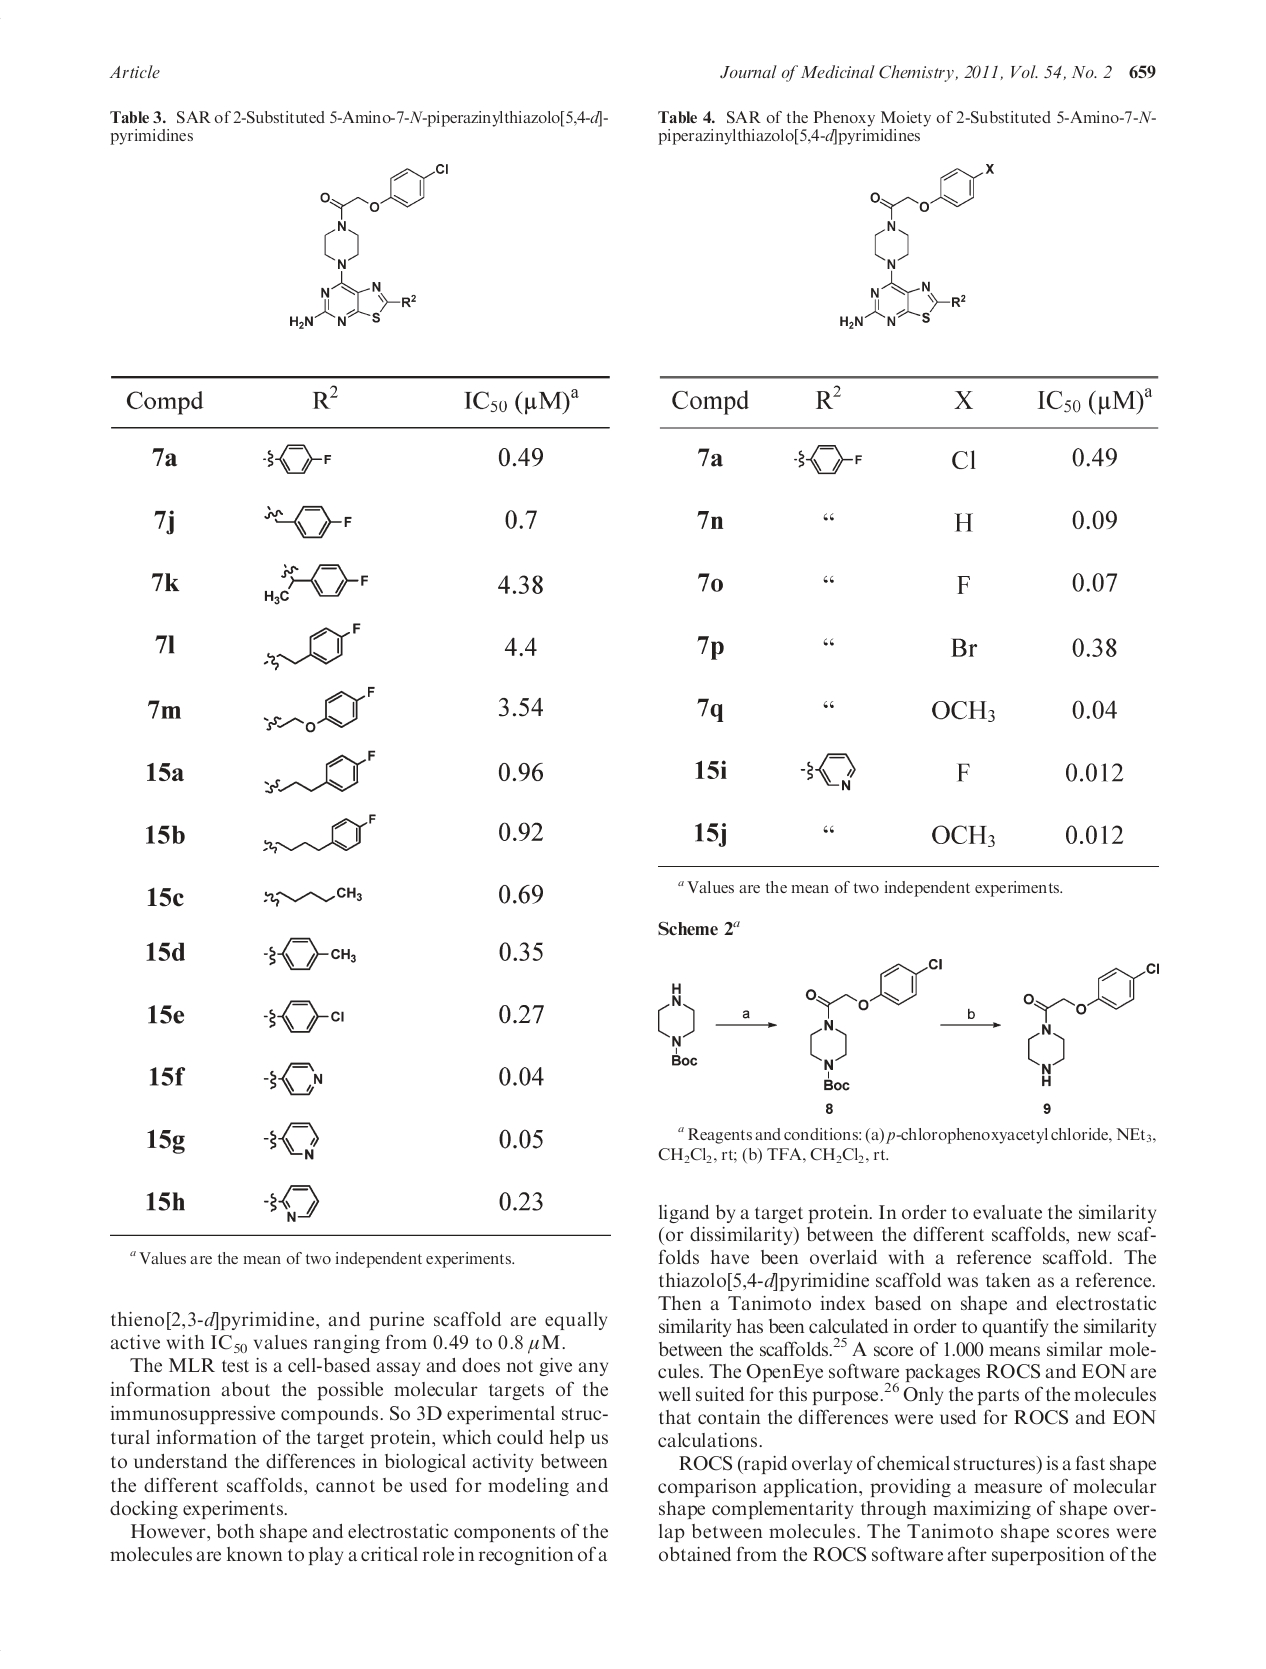exist_molecular: (283, 158, 451, 334), (836, 160, 996, 332), (797, 954, 946, 1094), (1017, 958, 1161, 1091), (259, 684, 376, 739), (261, 809, 382, 858), (261, 750, 378, 798), (261, 560, 371, 606), (261, 621, 362, 672), (654, 973, 703, 1075), (261, 930, 360, 977), (261, 497, 356, 543), (258, 993, 346, 1035), (257, 1052, 327, 1098), (258, 1180, 324, 1229), (258, 880, 364, 911), (799, 743, 862, 795), (790, 438, 864, 479), (258, 438, 332, 477), (258, 1117, 324, 1160)
